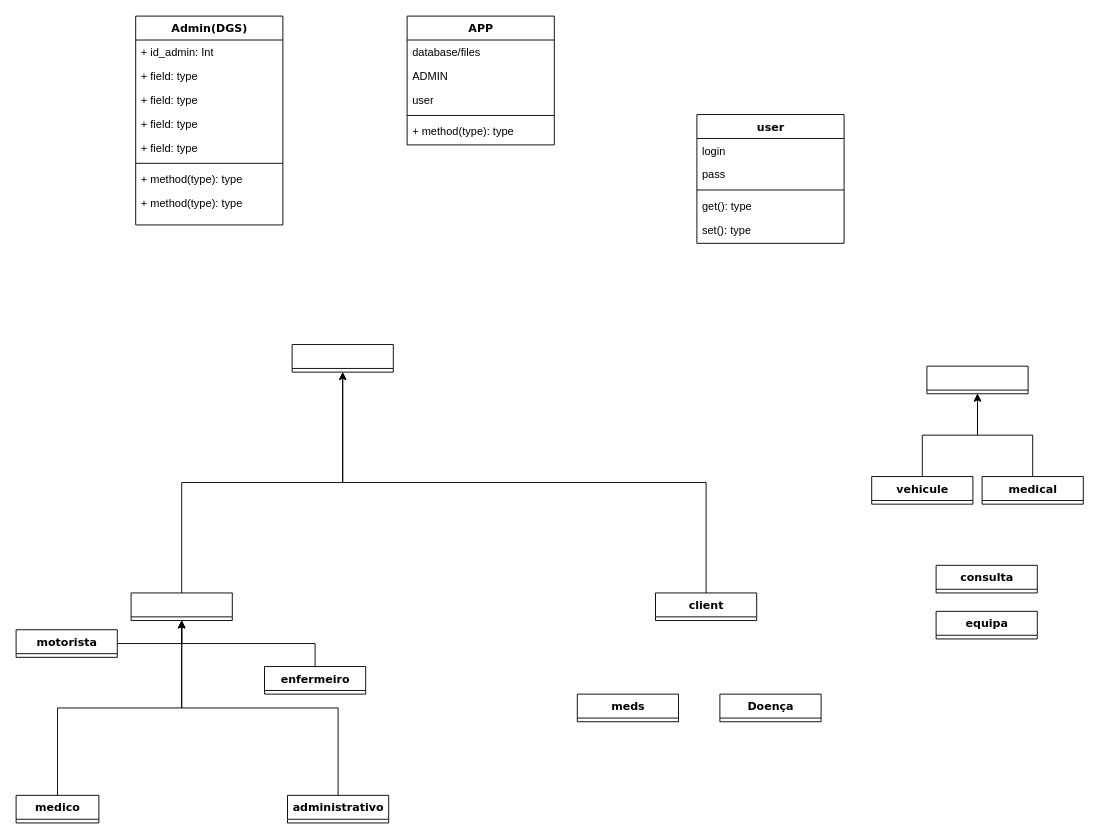
Some shapes in this 1099 by 839 pixel diagram are drawn without their labels. The centre of each missing label's shape, as x and y in pixels:
equipment: the point at 977,379
person: the point at 342,358
personel: the point at 181,606
